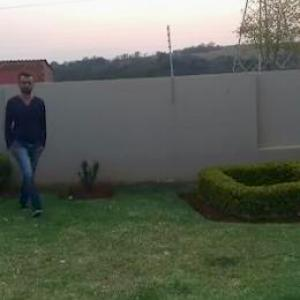follow: (5, 74, 60, 198)
